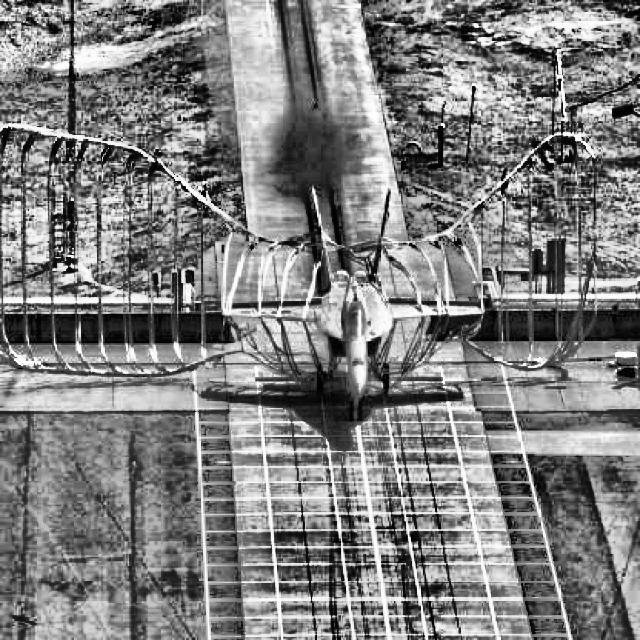F18: (221, 185, 484, 422)
